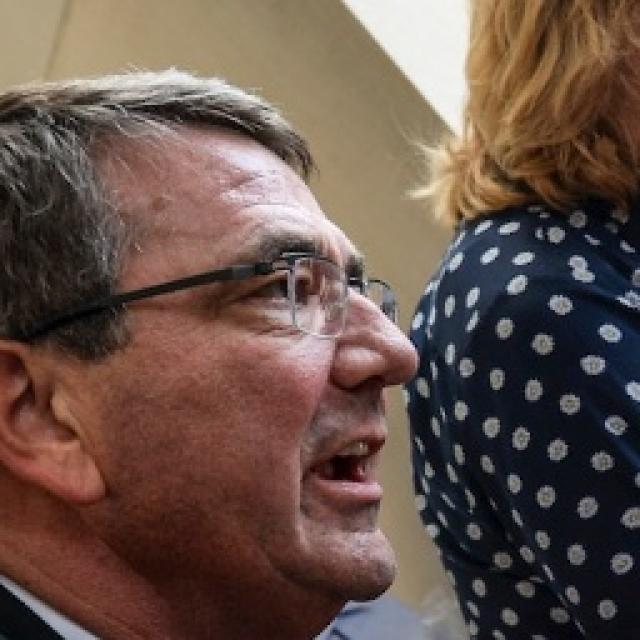glasses: (39, 253, 408, 371)
